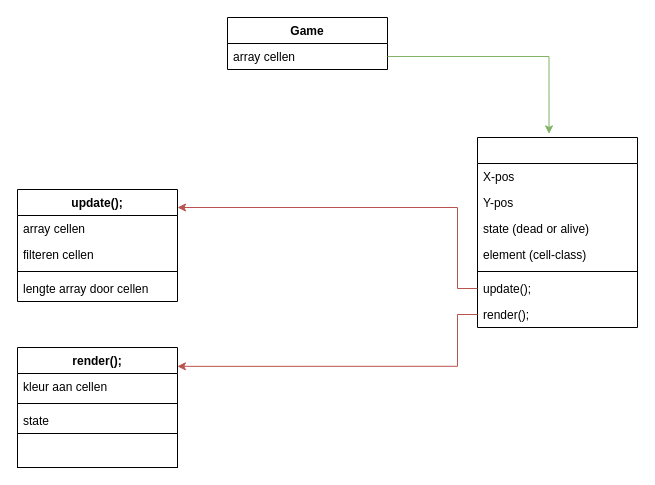
Some shapes in this 655 by 485 pixel diagram are drawn without their labels. Each missing label, with the box of its shape:
cellen: (476, 136, 638, 328)
Toevoegen aan container: (16, 432, 178, 468)
